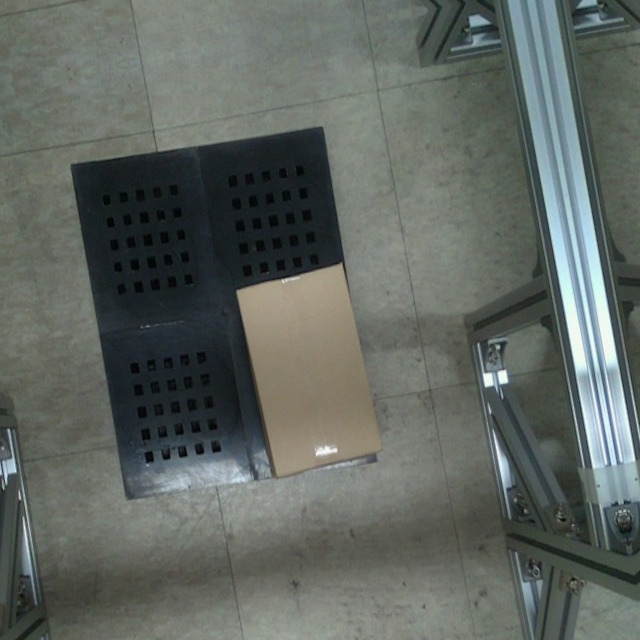box: (231, 260, 386, 482)
pallet: (66, 116, 382, 506)
